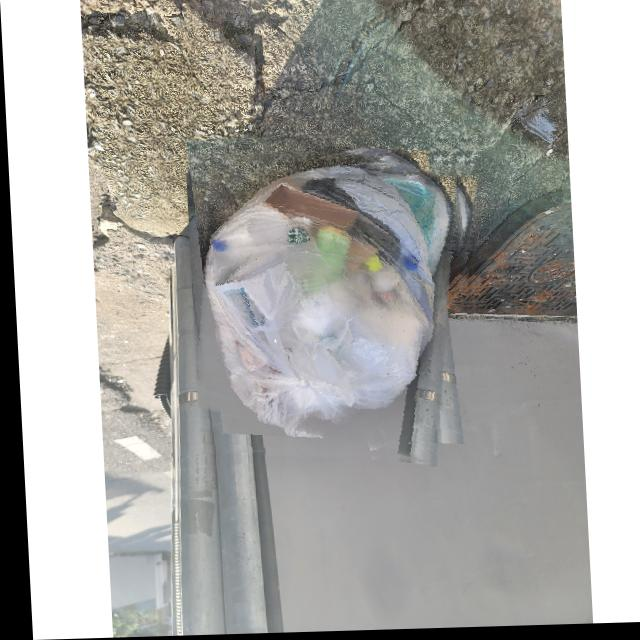other_trashbag: (193, 139, 459, 466)
